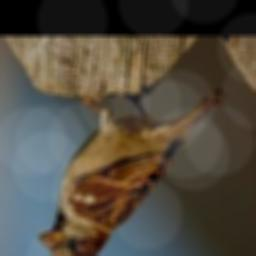Sparrow: (37, 90, 227, 256)
